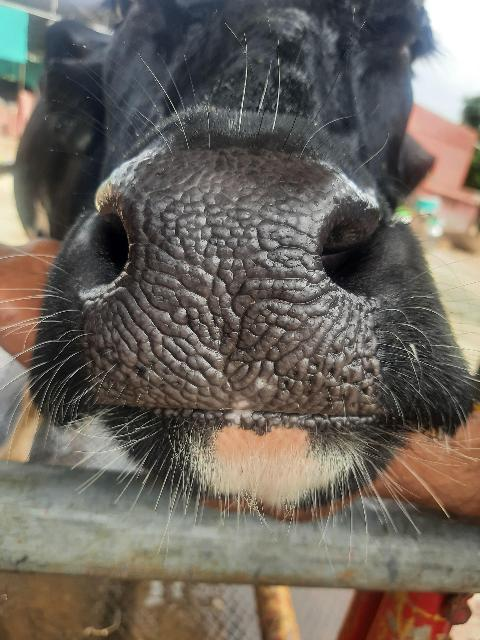Muzzle: (115, 170, 331, 410)
